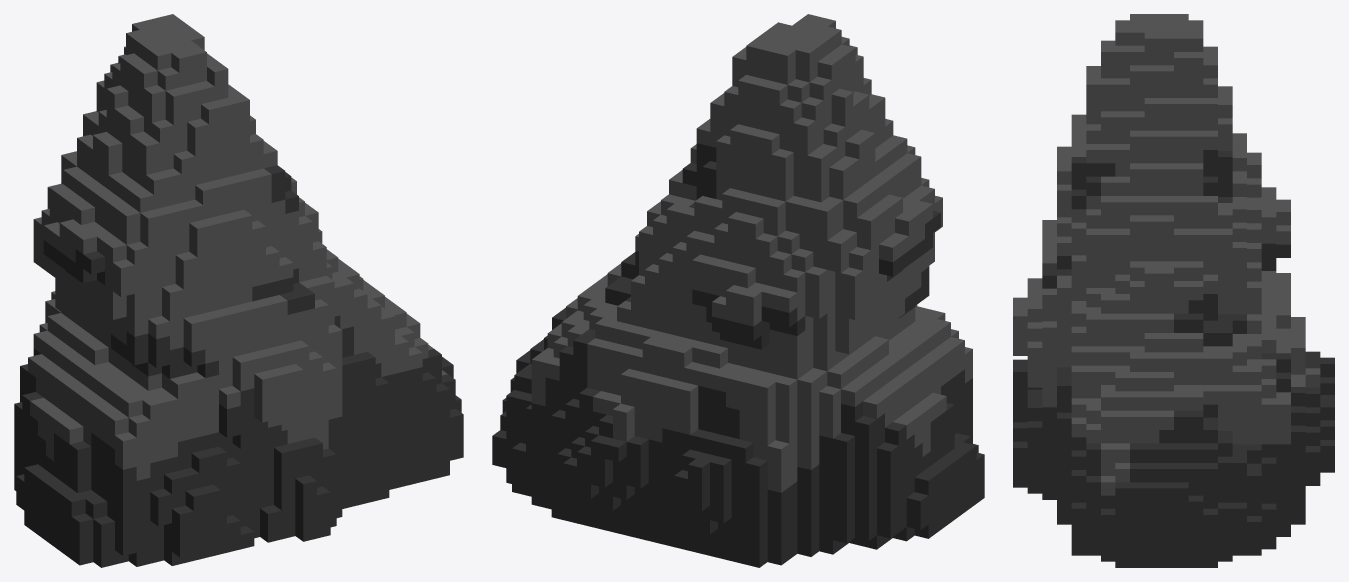
Rendered from rock_1.glb.
3 renders of one model, left to right at view 1: azimuth 30°, elevation 25°; view 2: azimuth 150°, elevation 25°; view 3: azimuth 270°, elevation 25°, orthographic. The views are drawn at different scales.
Parts seen in each view (by area): view 1: rock_1; view 2: rock_1; view 3: rock_1.
Part boxes in pixels (x1,y1,x2,y2): rock_1: [14, 14, 463, 567]; rock_1: [492, 14, 984, 567]; rock_1: [1013, 14, 1334, 567].
Size of the model in its own units: 2.9 by 3.2 by 2.2.
Materials: 1 (1 with a texture image).
